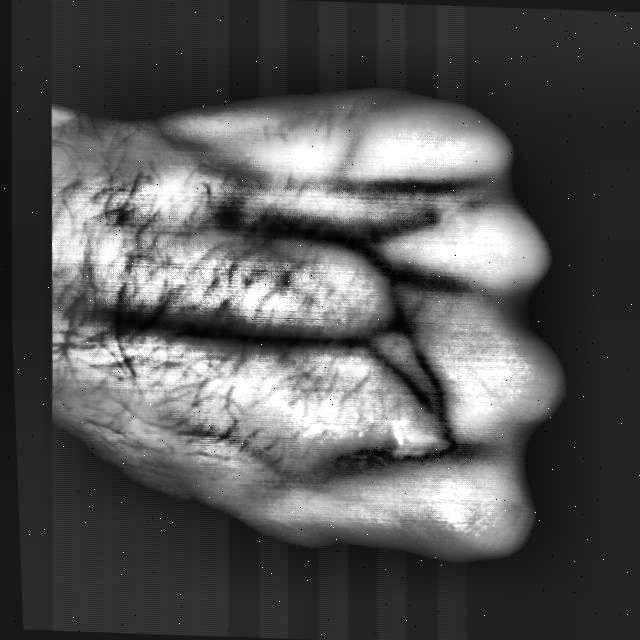Vein: (139, 310, 356, 354)
